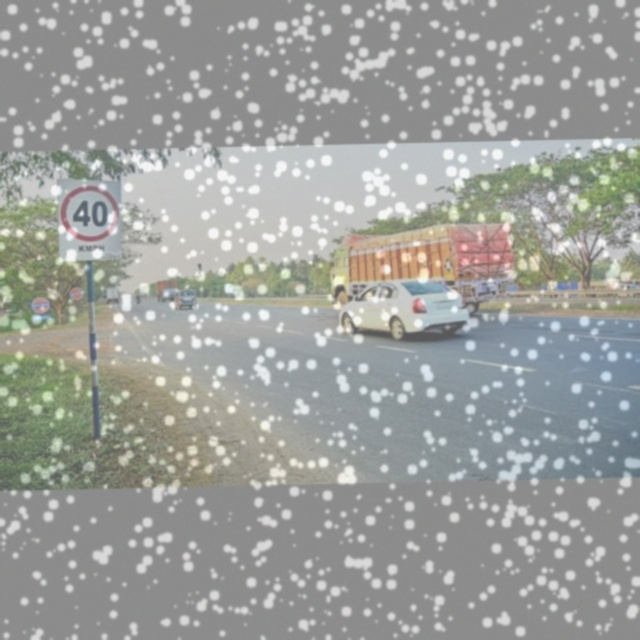Speed_Limit_40: (58, 175, 124, 265)
